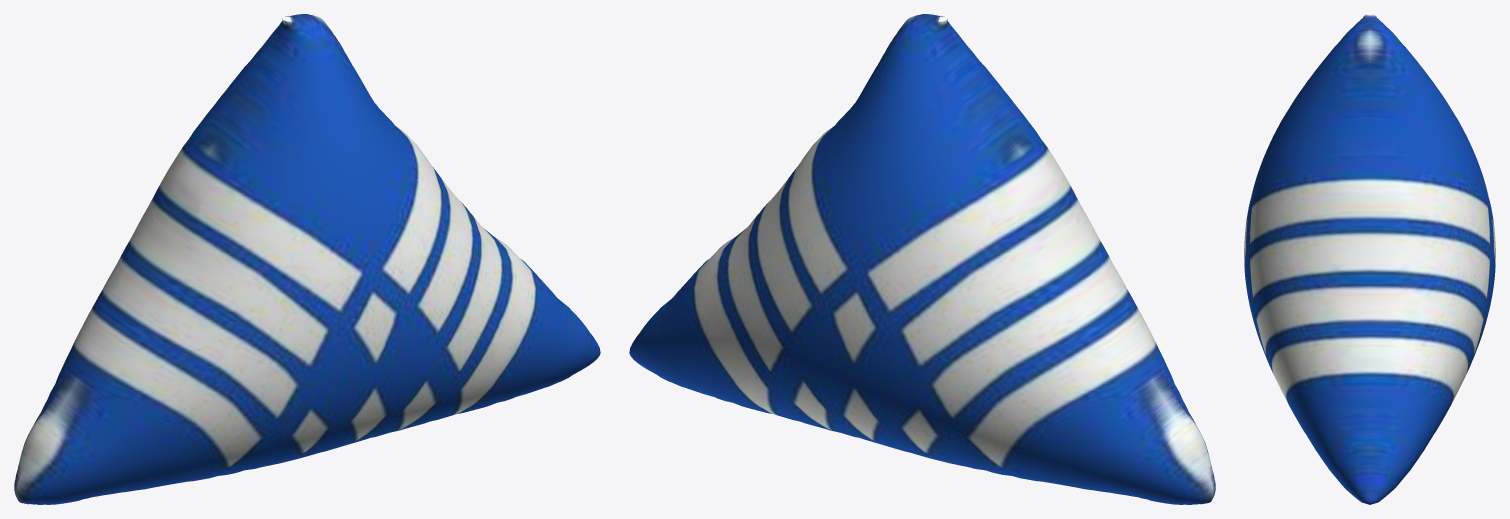
Rendered from asset.glb.
3 renders of one model, left to right at view 1: azimuth 30°, elevation 25°; view 2: azimuth 150°, elevation 25°; view 3: azimuth 270°, elevation 25°, orthographic. The views are drawn at different scales.
Parts seen in each view (by area): view 1: ee7b2d8f-85d9-461d-844d-e250b6c85516; view 2: ee7b2d8f-85d9-461d-844d-e250b6c85516; view 3: ee7b2d8f-85d9-461d-844d-e250b6c85516.
Part boxes in pixels (bbox=[...]): ee7b2d8f-85d9-461d-844d-e250b6c85516: bbox=[14, 14, 600, 504]; ee7b2d8f-85d9-461d-844d-e250b6c85516: bbox=[629, 14, 1215, 504]; ee7b2d8f-85d9-461d-844d-e250b6c85516: bbox=[1244, 14, 1495, 504].
Size of the model in its own units: 0.4805 by 0.3374 by 0.2069.
1 material, 1 textured.
